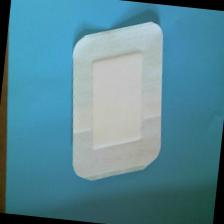Dressing: (57, 12, 178, 193)
